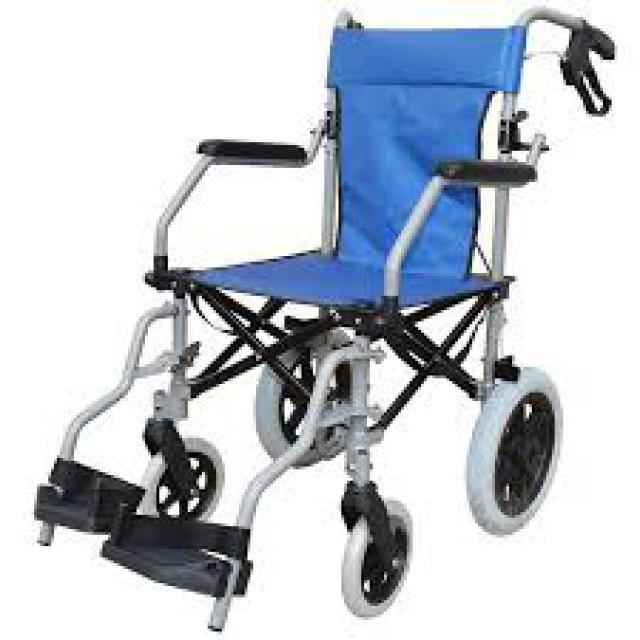wheelchair: (28, 2, 623, 638)
